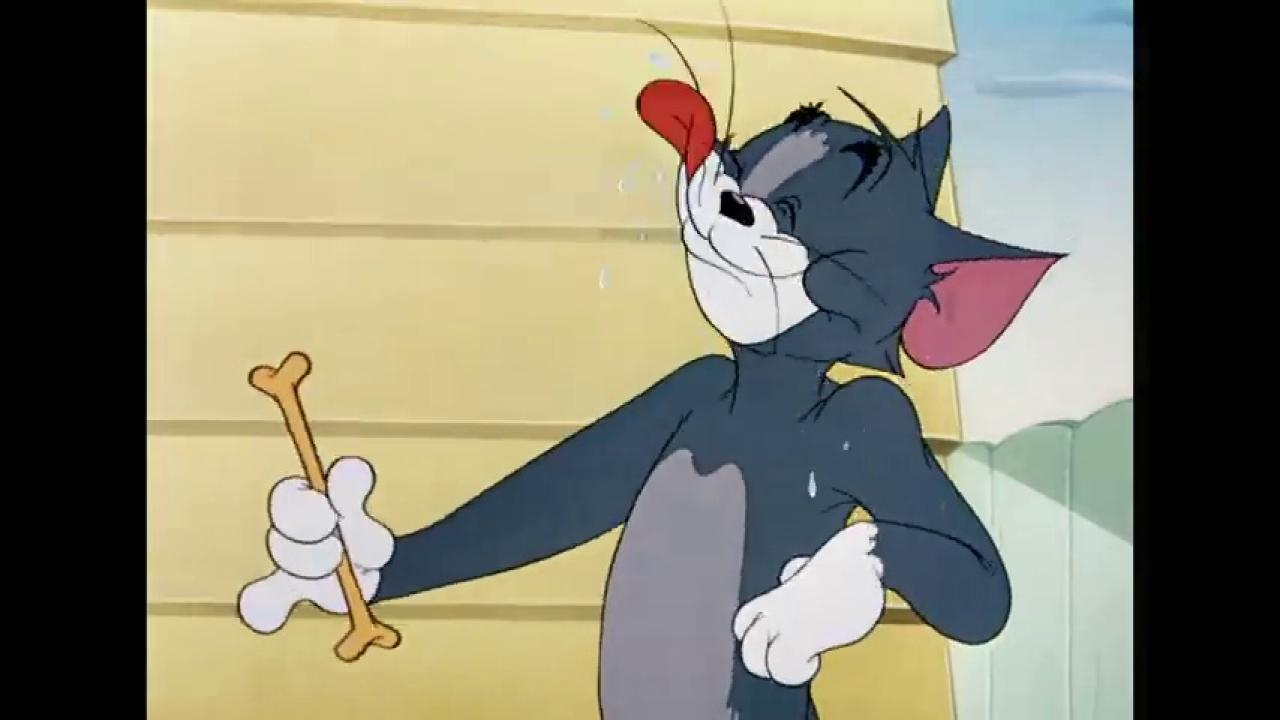Tom: (236, 75, 1072, 720)
